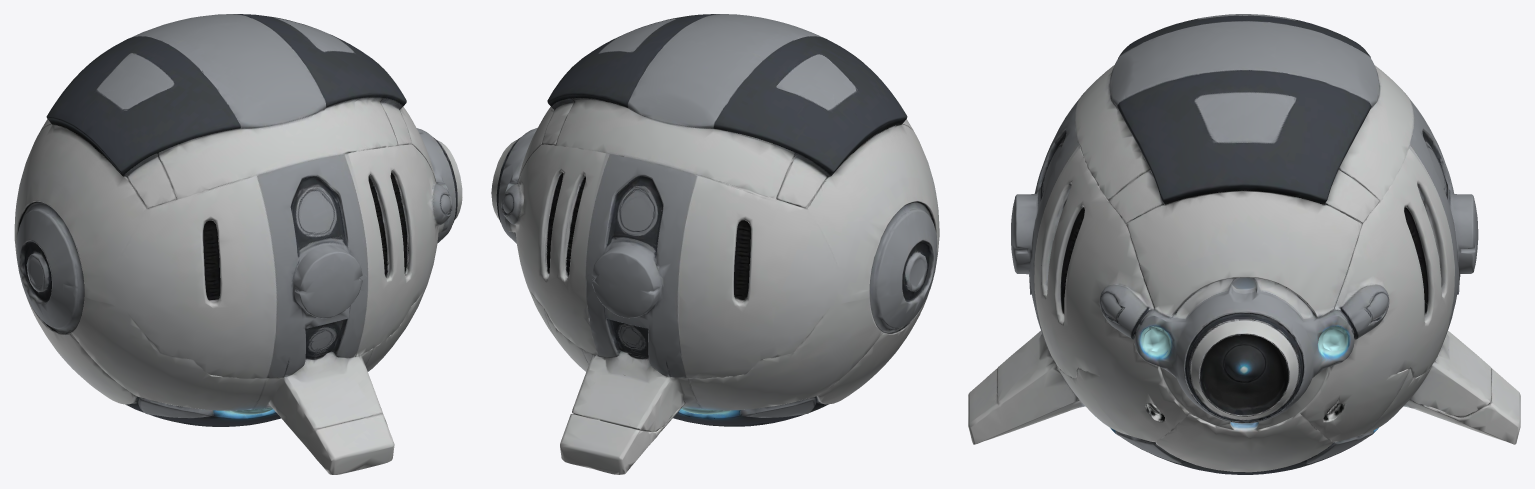
File: sample.glb
The picture shows the model from 3 angles, left to right: view 1: azimuth 30°, elevation 25°; view 2: azimuth 150°, elevation 25°; view 3: azimuth 270°, elevation 25°; orthographic projection. The views are drawn at different scales.
Parts seen in each view (by area): view 1: tripo_node_8c70b782-e088-472f-8277-fcf0489538e2; view 2: tripo_node_8c70b782-e088-472f-8277-fcf0489538e2; view 3: tripo_node_8c70b782-e088-472f-8277-fcf0489538e2.
Part boxes in pixels (x1,y1,x2,y2): tripo_node_8c70b782-e088-472f-8277-fcf0489538e2: (14,14,462,474); tripo_node_8c70b782-e088-472f-8277-fcf0489538e2: (491,14,939,474); tripo_node_8c70b782-e088-472f-8277-fcf0489538e2: (968,14,1520,474).
Bounding box in the file's own units: 0.9379 × 0.8206 × 1.
1 material, 1 textured.
